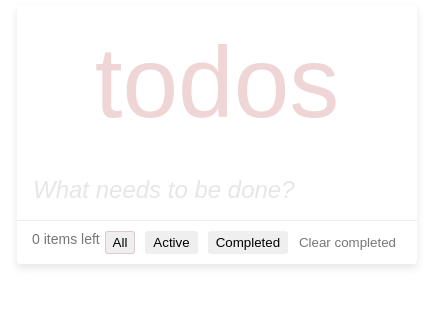
Test: App component › добавляет новую задачу
In the field with placeholder "What needs to be done?": {"x": 217, "y": 190} [17,160,417,221], type "Новая задача"
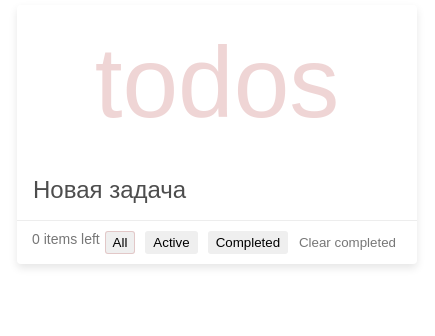
Press Enter in the field with placeholder "What needs to be done?", box [17,160,417,221]
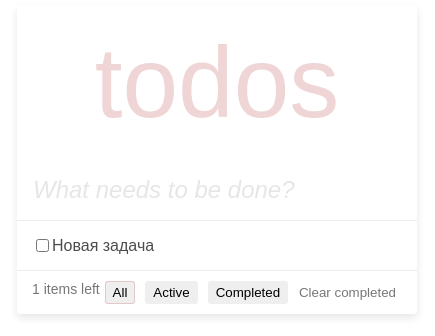
Expected: the text "Новая задача" is shown, [52,236,154,254]
